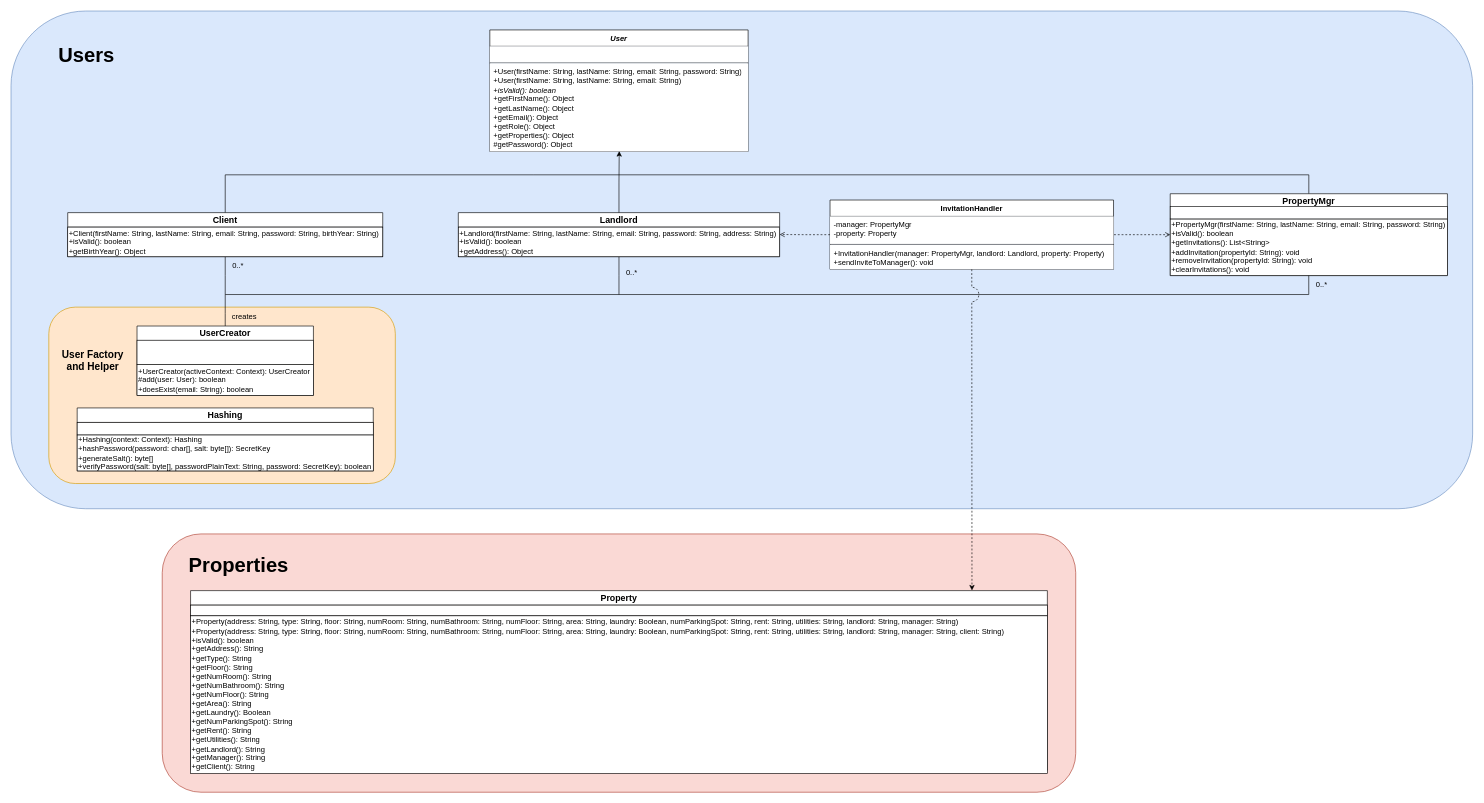
Image size: 1484x803. Some labels were removed from this diagram. The shapes that lost their labels are listed below. From the top down, each one's box as (x1, y1, x2, y2) in pixels, then its label:
(490, 46, 748, 62): #userData: Map<String, Object>
(1170, 206, 1447, 219): -invitations: ArrayList<String>
(136, 340, 313, 364): ~context: Context ~firestore: FirebaseFirestore
(77, 422, 373, 435): ~context: Context
(190, 604, 1047, 616): #propertyData: Map<String, Object>
